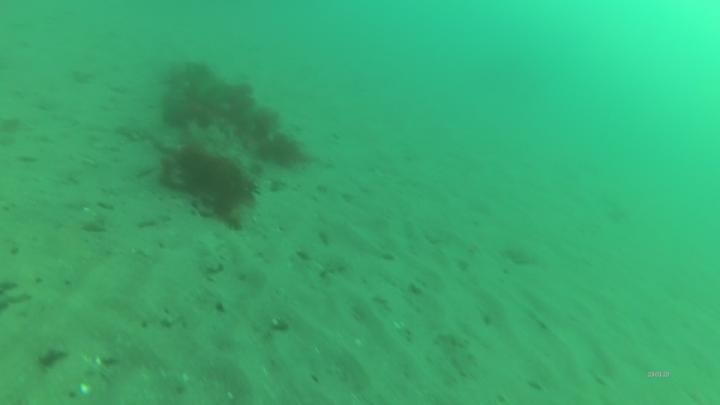waterweeds: (170, 62, 301, 161), (172, 147, 259, 232)
